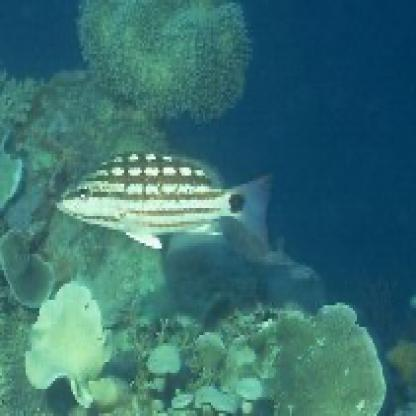Bio: (51, 146, 274, 254)
